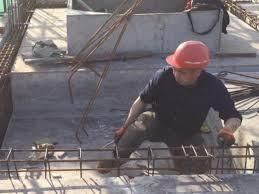Helmet: (166, 41, 209, 84)
